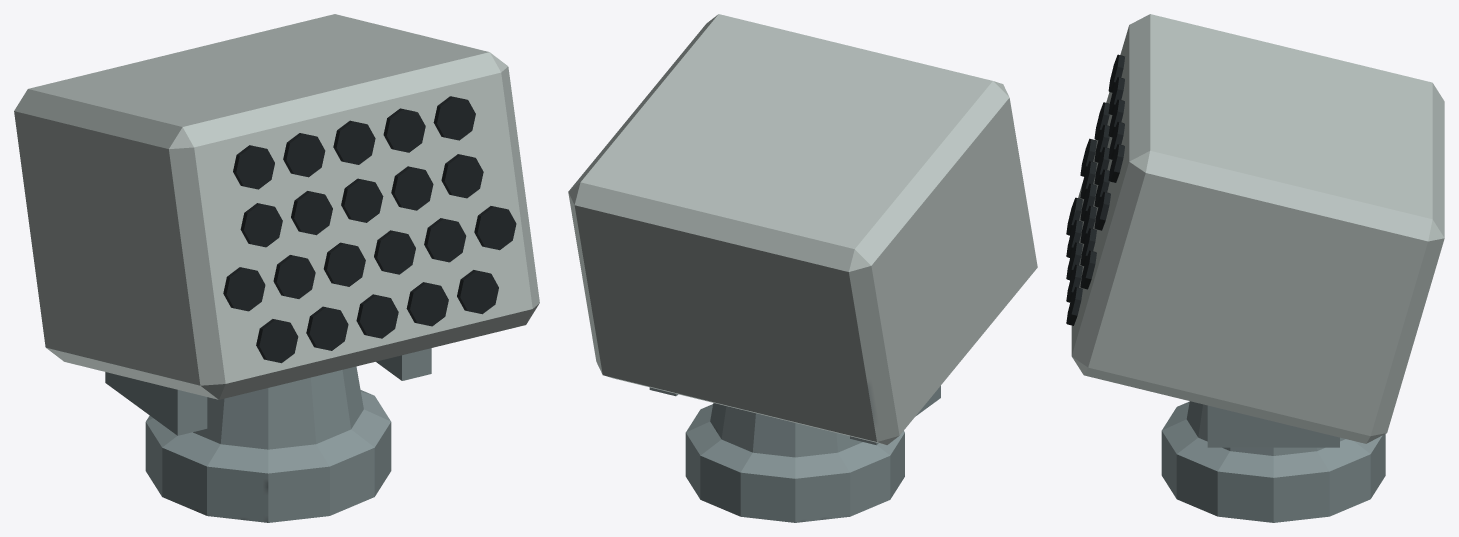
Rendered from mount_gepard_pdms.glb.
3 renders of one model, left to right at view 1: azimuth 30°, elevation 25°; view 2: azimuth 150°, elevation 25°; view 3: azimuth 270°, elevation 25°, orthographic. The views are drawn at different scales.
Parts seen in each view (by area): view 1: MESH_GEPARD_TEMPLATE_pdms; view 2: MESH_GEPARD_TEMPLATE_pdms; view 3: MESH_GEPARD_TEMPLATE_pdms.
Part boxes in pixels (box(x1,y1,x2,y2)): MESH_GEPARD_TEMPLATE_pdms: box(14, 14, 539, 522); MESH_GEPARD_TEMPLATE_pdms: box(568, 14, 1037, 522); MESH_GEPARD_TEMPLATE_pdms: box(1066, 14, 1444, 522).
Size of the model in its own units: 2.4 by 2.91 by 2.54.
Materials: 1 (1 with a texture image).
